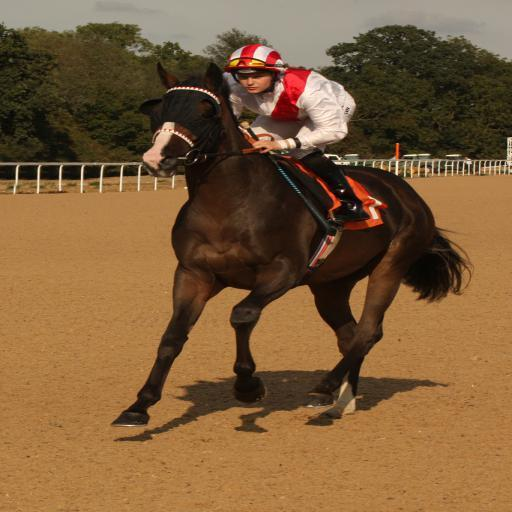horse: (103, 62, 474, 430)
